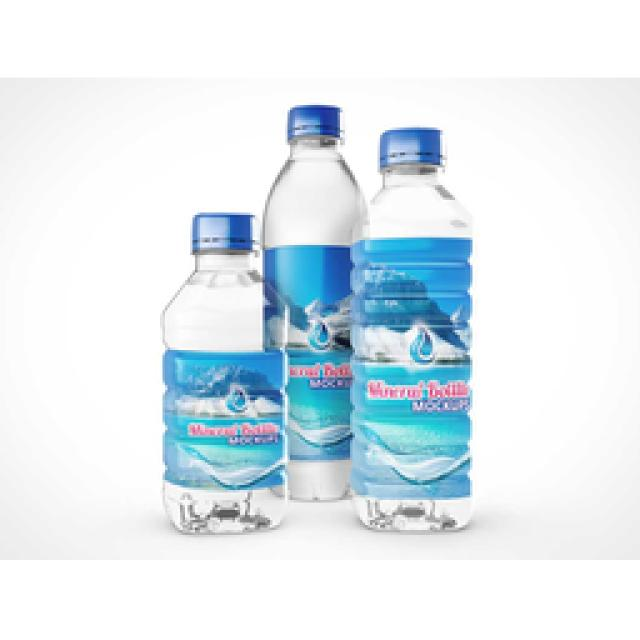plastic_water_bottles: (360, 119, 482, 538), (162, 205, 276, 543), (267, 92, 365, 473)
